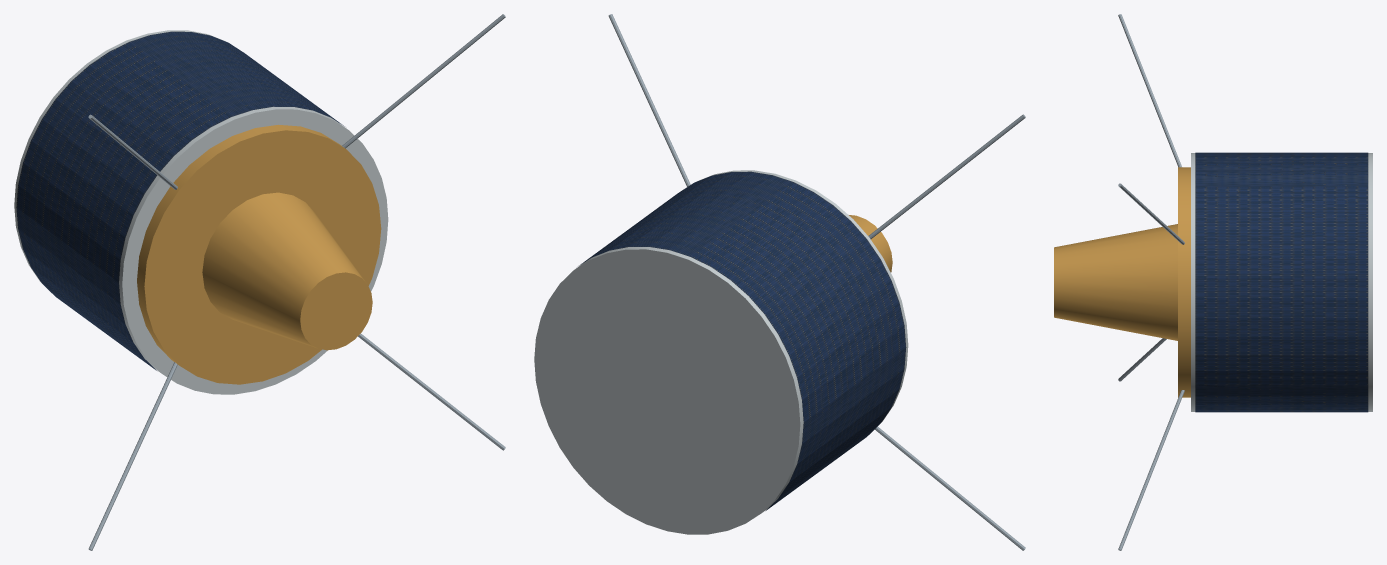
Rendered from ref-hs-303a-1317.glb.
3 views of the same model, side by side, from view 1: azimuth 30°, elevation 25°; view 2: azimuth 150°, elevation 25°; view 3: azimuth 270°, elevation 25° (orthographic). The views are drawn at different scales.
Parts seen in each view (by area): view 1: Body-mounted solar cells, Despun equipment deck, Axial antenna horn, Solar drum core, Whip antenna (×3); view 2: Solar drum core, Body-mounted solar cells, Whip antenna (×3), Axial antenna horn; view 3: Body-mounted solar cells, Axial antenna horn, Despun equipment deck, Solar drum core, Whip antenna (×2).
Part boxes in pixels (x1,y1,x2,y2): Body-mounted solar cells: (16,31,344,370); Despun equipment deck: (137,124,381,384); Axial antenna horn: (202,192,372,350); Solar drum core: (14,30,388,394); Whip antenna (×3): (88,14,505,550); Solar drum core: (534,170,908,534); Body-mounted solar cells: (579,171,906,510); Whip antenna (×3): (608,14,1025,550); Axial antenna horn: (849,215,892,272); Body-mounted solar cells: (1195,152,1368,412); Axial antenna horn: (1054,224,1177,340); Despun equipment deck: (1178,167,1190,397); Solar drum core: (1191,153,1372,411); Whip antenna (×2): (1118,14,1184,550).
Bounding box in the file's own units: 1.1 × 1.1 × 0.8617.
4 materials, 1 textured.
